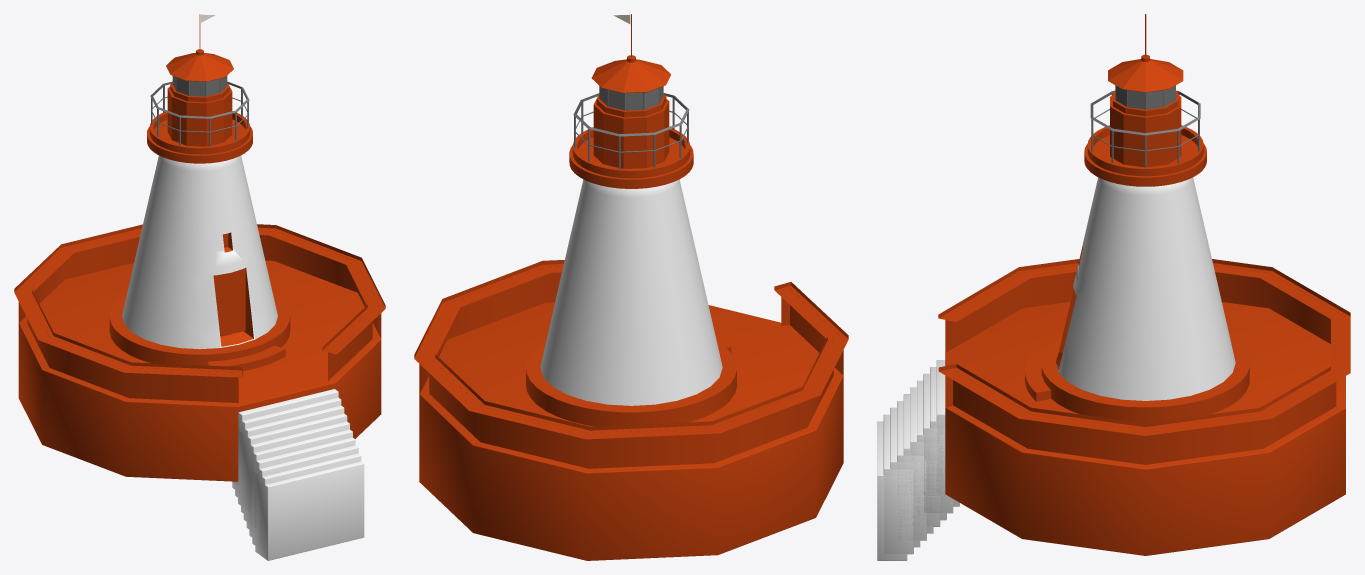
Rendered from aca2de76-024b-456b-a3d5-b4e0a6d11736.glb.
The picture shows the model from 3 angles, left to right: view 1: azimuth 30°, elevation 25°; view 2: azimuth 150°, elevation 25°; view 3: azimuth 270°, elevation 25°; orthographic projection. The views are drawn at different scales.
Parts seen in each view (by area): view 1: PAD, Base-Door_cutout, PAD.1, PAD.2, Cube_9, BASE, Tube.1, Cube_3, door, ledge_bottom, Cube_8, roof_Cone (+11 smaller); view 2: PAD, Base-Door_cutout, PAD.1, PAD.2, BASE, Tube.1, ledge_bottom, roof_Cone, Tube, Glass, Torus, Tube_1; view 3: PAD, Base-Door_cutout, PAD.1, PAD.2, BASE, Tube.1, Cube_8, Cube_2, Cube_6, ledge_bottom, roof_Cone, Cube_4 (+8 smaller).
Boxes of the visible parts, box(x1,y1,x2,y2) form: PAD: box(18, 260, 381, 481); Base-Door_cutout: box(122, 155, 277, 349); PAD.1: box(18, 229, 381, 402); PAD.2: box(14, 224, 385, 377); Cube_9: box(255, 461, 364, 560); BASE: box(109, 294, 290, 365); Tube.1: box(167, 84, 232, 146); Cube_3: box(238, 413, 347, 511); door: box(213, 268, 245, 336); ledge_bottom: box(147, 119, 252, 163); Cube_8: box(252, 453, 361, 552); roof_Cone: box(166, 52, 233, 81); PAD: box(419, 302, 843, 560); Base-Door_cutout: box(540, 179, 722, 405); PAD.1: box(419, 266, 843, 468); PAD.2: box(414, 260, 848, 439); BASE: box(526, 342, 736, 426); Tube.1: box(593, 95, 669, 168); ledge_bottom: box(569, 137, 693, 188); roof_Cone: box(591, 59, 671, 93); Tube: box(572, 127, 690, 178); Glass: box(600, 86, 662, 110); Torus: box(573, 93, 689, 136); Tube_1: box(596, 94, 666, 117); PAD: box(945, 301, 1345, 555); Base-Door_cutout: box(1055, 177, 1235, 400); PAD.1: box(945, 265, 1342, 464); PAD.2: box(938, 259, 1350, 435); BASE: box(1041, 337, 1249, 423); Tube.1: box(1110, 95, 1181, 166); Cube_8: box(883, 414, 913, 554); Cube_2: box(923, 373, 953, 513); Cube_6: box(897, 401, 926, 540); ledge_bottom: box(1084, 135, 1206, 186); roof_Cone: box(1108, 59, 1183, 92); Cube_4: box(910, 387, 940, 526).
Size of the model in its own units: 2873 by 3820 by 3155.
